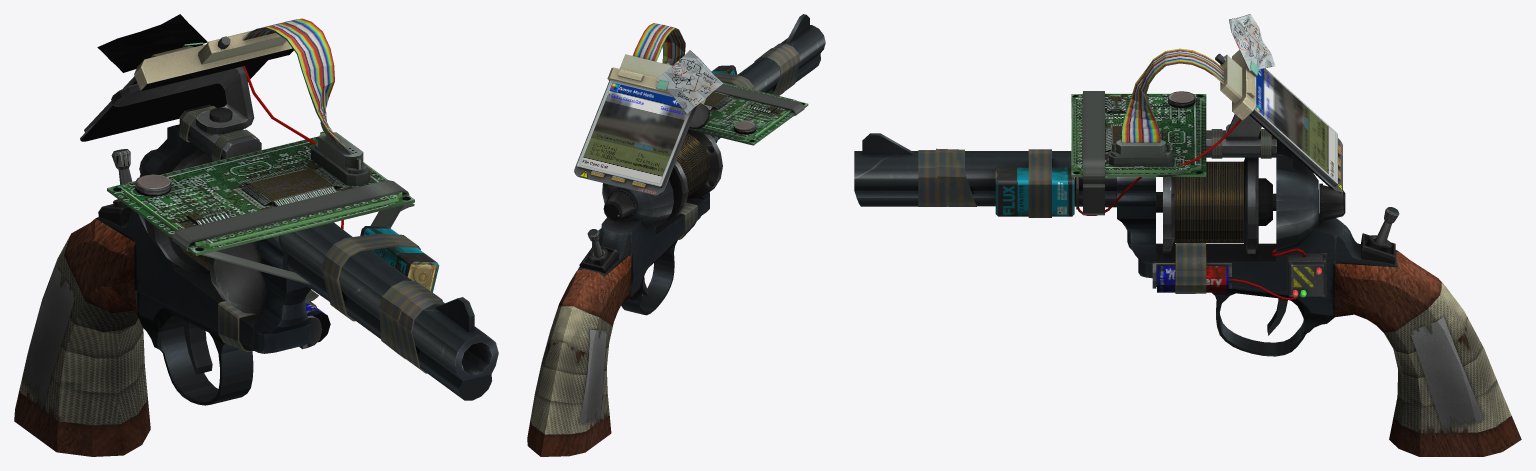
Rendered from w_toolgun.obj.
3 views of the same model, side by side, from view 1: azimuth 30°, elevation 25°; view 2: azimuth 150°, elevation 25°; view 3: azimuth 270°, elevation 25° (orthographic). The views are drawn at different scales.
Parts seen in each view (by area): view 1: w_toolgun_reference; view 2: w_toolgun_reference; view 3: w_toolgun_reference.
Part boxes in pixels (x1,y1,x2,y2): w_toolgun_reference: (14, 14, 498, 456); w_toolgun_reference: (527, 14, 825, 456); w_toolgun_reference: (854, 14, 1521, 456).
Bounding box in the file's own units: 4.38 × 9.73 × 14.63.
4 materials, 4 textured.
